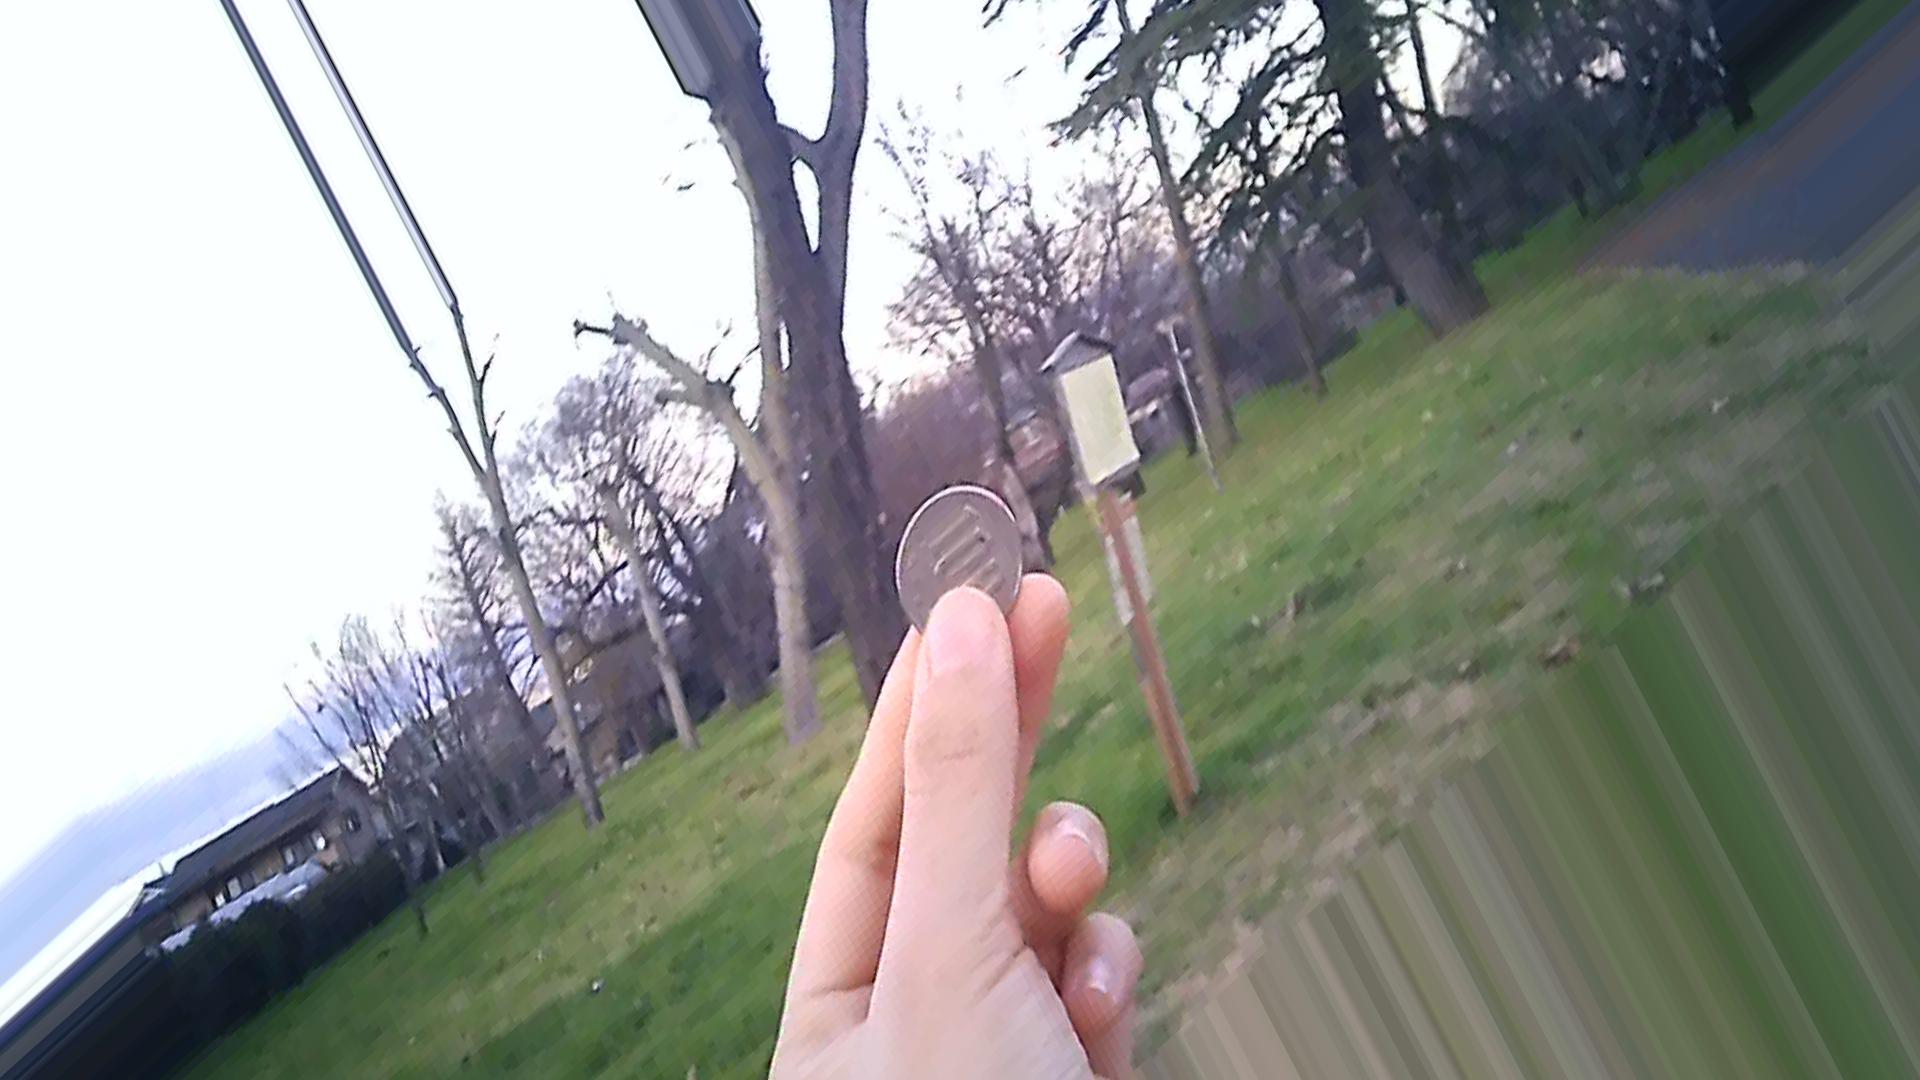100 Yen: (880, 473, 1035, 655)
